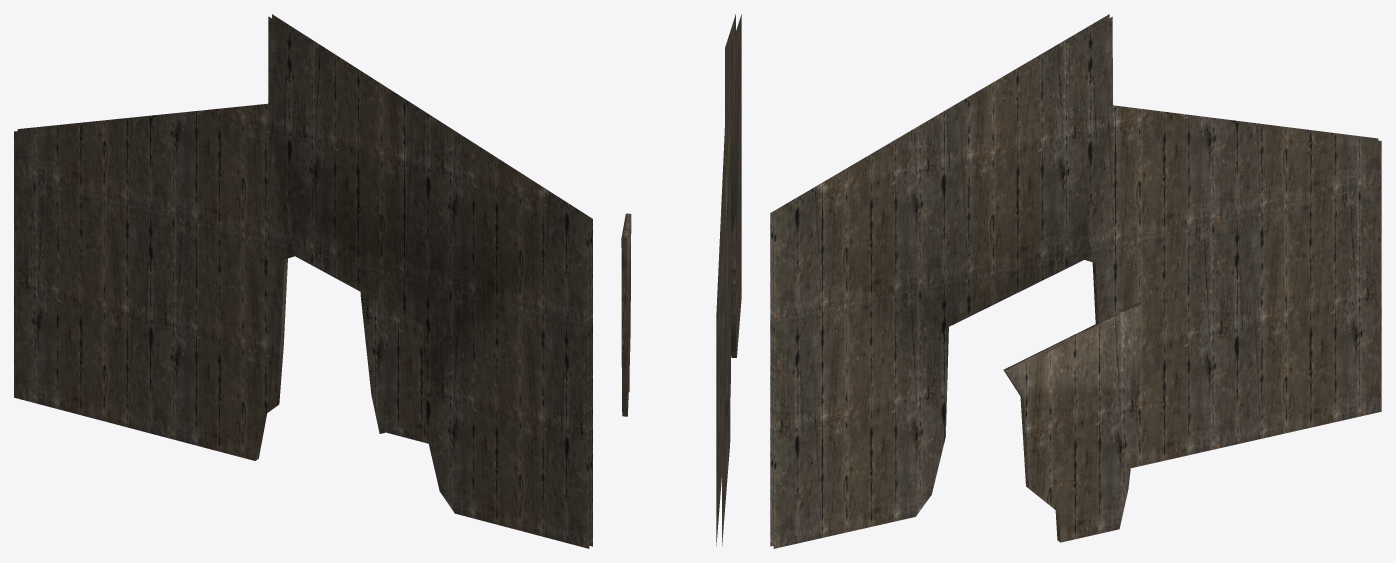
Rendered from ChangedHouseWall.fbx.
3 renders of one model, left to right at view 1: azimuth 30°, elevation 25°; view 2: azimuth 150°, elevation 25°; view 3: azimuth 270°, elevation 25°, orthographic. The views are drawn at different scales.
Visible parts, largest first — view 1: Shack1.003, Shack1.019; view 2: Shack1.003, Shack1.019; view 3: Shack1.003, Shack1.019.
Boxes of the visible parts, x1,y1,x2,y2 form: Shack1.003: (14, 14, 592, 548); Shack1.019: (360, 292, 428, 443); Shack1.003: (716, 14, 741, 545); Shack1.019: (621, 213, 631, 416); Shack1.003: (770, 14, 1381, 548); Shack1.019: (1003, 303, 1141, 542).
Size of the model in its own units: 261 by 381 by 463.
